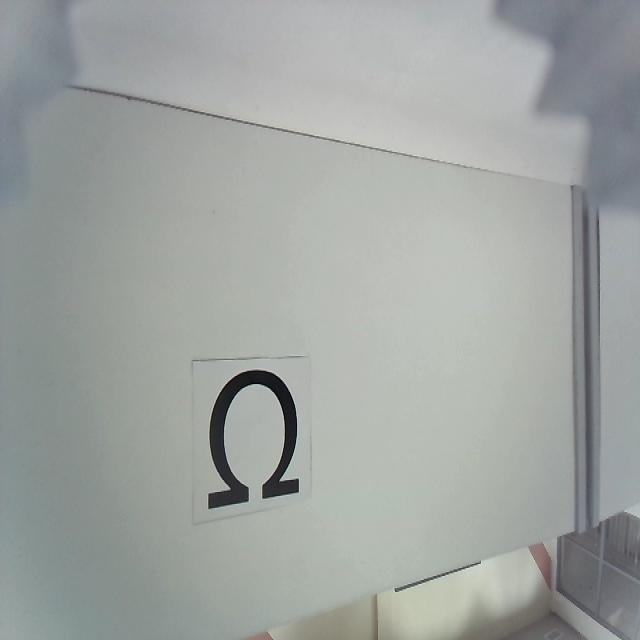OM: (209, 369, 300, 510)
